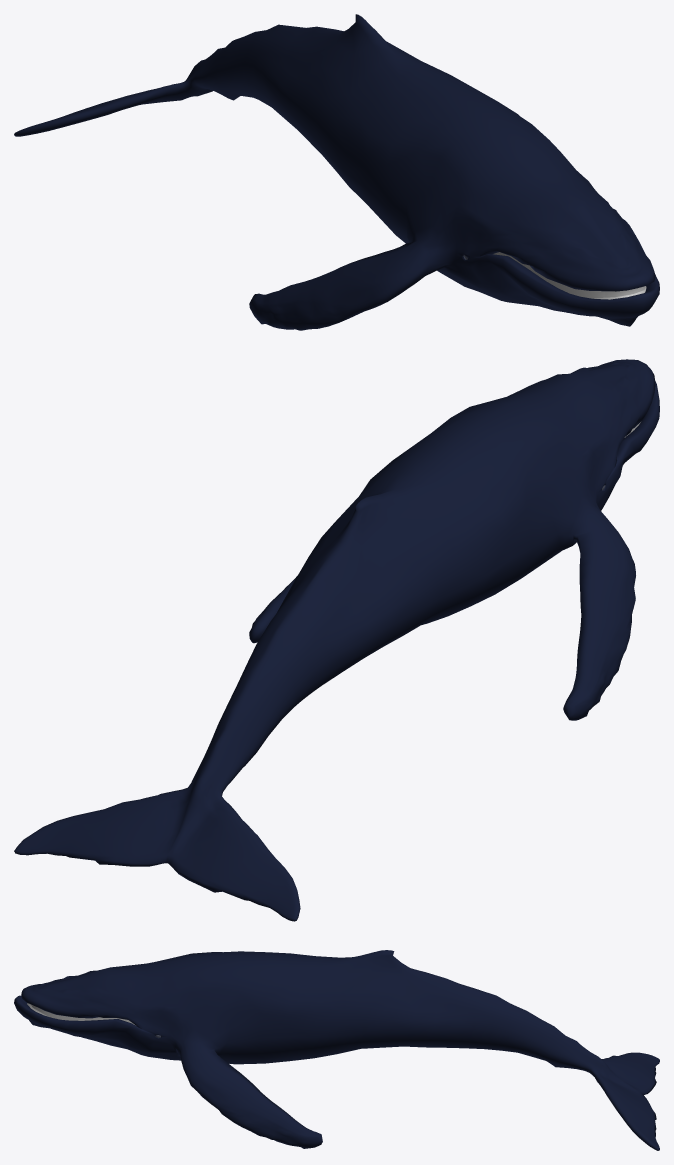
Rendered from whale_animation04.obj.
3 views of the same model, one above another, from view 1: azimuth 30°, elevation 25°; view 2: azimuth 150°, elevation 25°; view 3: azimuth 270°, elevation 25° (orthographic). The views are drawn at different scales.
Visible parts, largest first — view 1: Whale, Barbs; view 2: Whale; view 3: Whale, Barbs.
Boxes of the visible parts, box(x1,y1,x2,y2) form: Whale: box(14, 14, 659, 330); Barbs: box(493, 252, 646, 299); Whale: box(14, 359, 659, 921); Whale: box(14, 950, 659, 1150); Barbs: box(27, 1003, 135, 1025).
Size of the model in its own units: 7.23 by 4.9 by 18.37.
